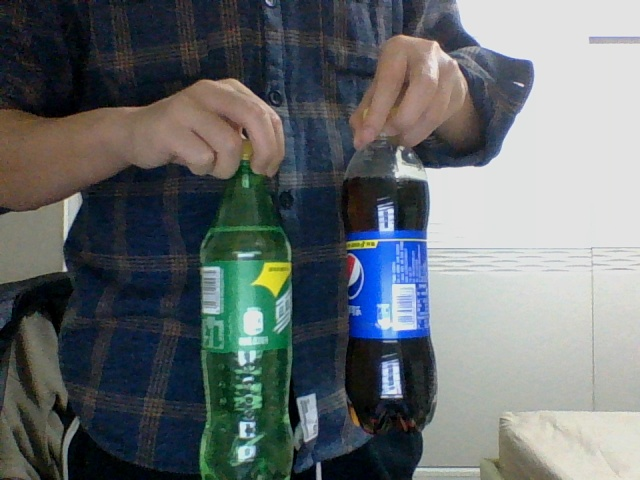Cola: (341, 106, 438, 433)
Sprite: (200, 140, 295, 478)
